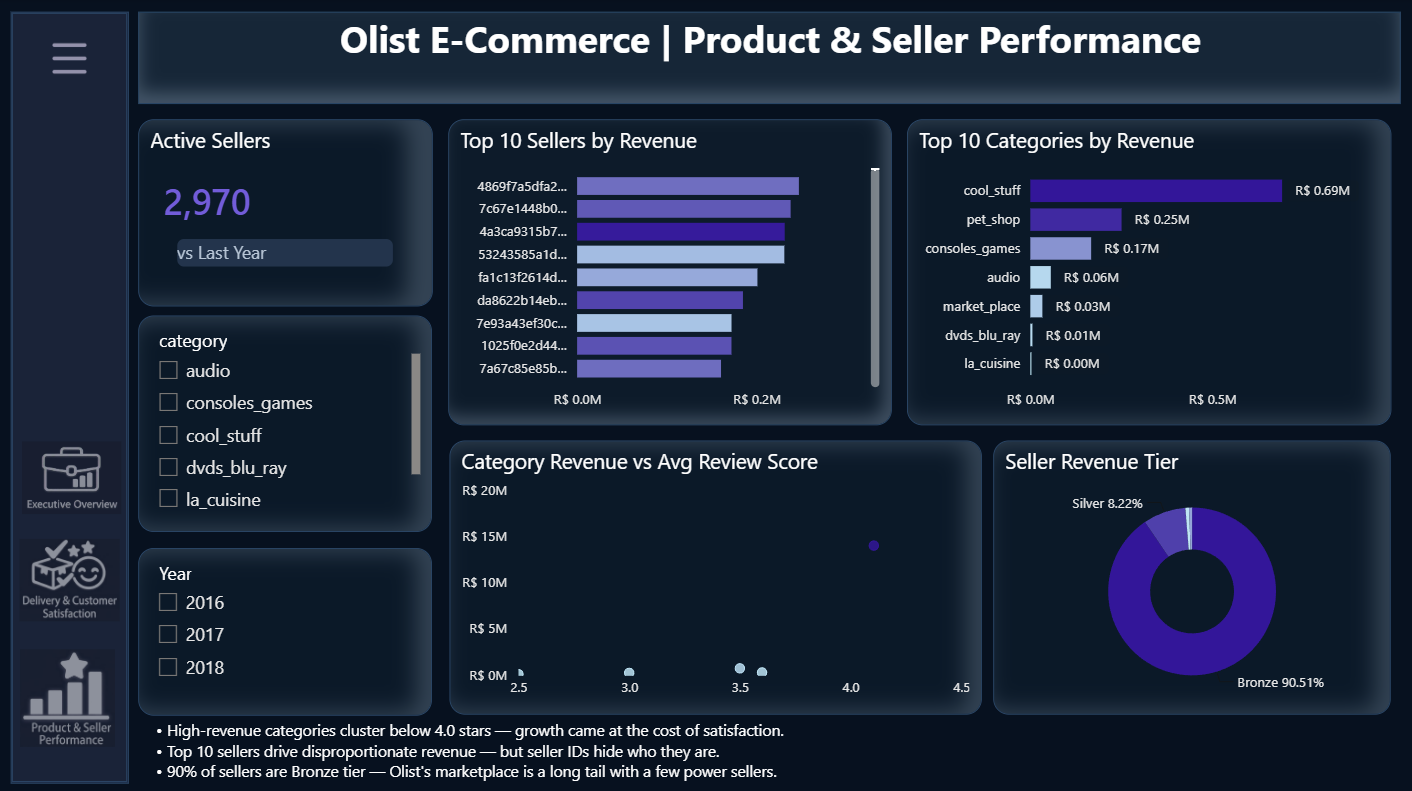

What the dashboard file says about the page in this screenshot:
{"tool":"powerbi","page":{"name":"Product & Seller Performance","canvas":[1280,720],"ordinal":2},"visuals":[{"type":"cardVisual","title":"Active Sellers","fields":{"Data":["Dim_Sellers.Active Sellers"]},"box":[127.2,108.8,265.4,168.8],"z":0},{"type":"barChart","title":"Top 10 Categories by Revenue","fields":{"Category":["Dim_Products.category"],"Y":["Fact_Order_Items.Total_Revenue"]},"box":[820.5,108.8,436.6,276.4],"z":1000},{"type":"scatterChart","title":"Category Revenue vs Avg Review Score","fields":{"Category":["Dim_Products.category"],"X":["Fact_Order_Items.Avg Review Score"],"Y":["Fact_Order_Items.Total_Revenue"]},"box":[407.5,399.3,480.3,247],"z":2000},{"type":"slicer","fields":{"Values":["Dim_Products.category"]},"box":[127.6,286.8,264.8,194.9],"z":4000},{"type":"slicer","fields":{"Values":["Dim_Date.Year"]},"box":[127.6,495.4,264.8,150.9],"z":5000},{"type":"donutChart","title":"Seller Revenue Tier","fields":{"Category":["Seller Revenue Summary.Seller Tier"],"Y":["Seller Revenue Summary.Seller Count"]},"box":[898.8,399.3,358.1,247],"z":6000},{"type":"shape","box":[12.2,12.2,106.4,695.8],"z":7000},{"type":"textbox","title":"Olist E-Commerce | Product & Seller Performance","box":[127.2,12.2,1138.5,83.2],"z":8000},{"type":"image","box":[28.1,29.3,74.6,50.1],"z":9000},{"type":"image","box":[19.6,587,89.3,88],"z":10000},{"type":"image","box":[20.8,481.8,90.5,86.8],"z":11000},{"type":"image","box":[22,398.6,89.3,67.3],"z":12000},{"type":"textbox","box":[127.2,645.7,609,74.6],"z":13000},{"type":"barChart","title":"Top 10 Sellers by Revenue","fields":{"Category":["Fact_Order_Items.seller_id"],"Y":["Fact_Order_Items.Total_Revenue"]},"box":[407.2,108.8,399.9,276.4],"z":14000}]}

Visuals, with their boxes on the page's 1280x720 design canvas (x1, y1, x2, y2). These are canvas units, not pixel positions in the 1412x791 screenshot, which may show the page scaled, cropped or inside an application window:
"Active Sellers" cardVisual: 127, 109, 393, 278
"Top 10 Categories by Revenue" barChart: 820, 109, 1257, 385
"Category Revenue vs Avg Review Score" scatterChart: 408, 399, 888, 646
slicer - Dim_Products.category: 128, 287, 392, 482
slicer - Dim_Date.Year: 128, 495, 392, 646
"Seller Revenue Tier" donutChart: 899, 399, 1257, 646
shape: 12, 12, 119, 708
"Olist E-Commerce | Product & Seller Performance" textbox: 127, 12, 1266, 95
image: 28, 29, 103, 79
image: 20, 587, 109, 675
image: 21, 482, 111, 569
image: 22, 399, 111, 466
textbox: 127, 646, 736, 720
"Top 10 Sellers by Revenue" barChart: 407, 109, 807, 385
